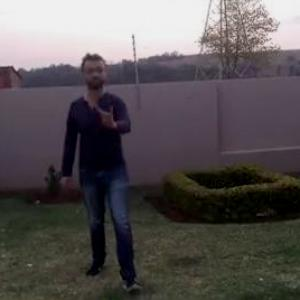takeoff-hand: (93, 94, 121, 131)
